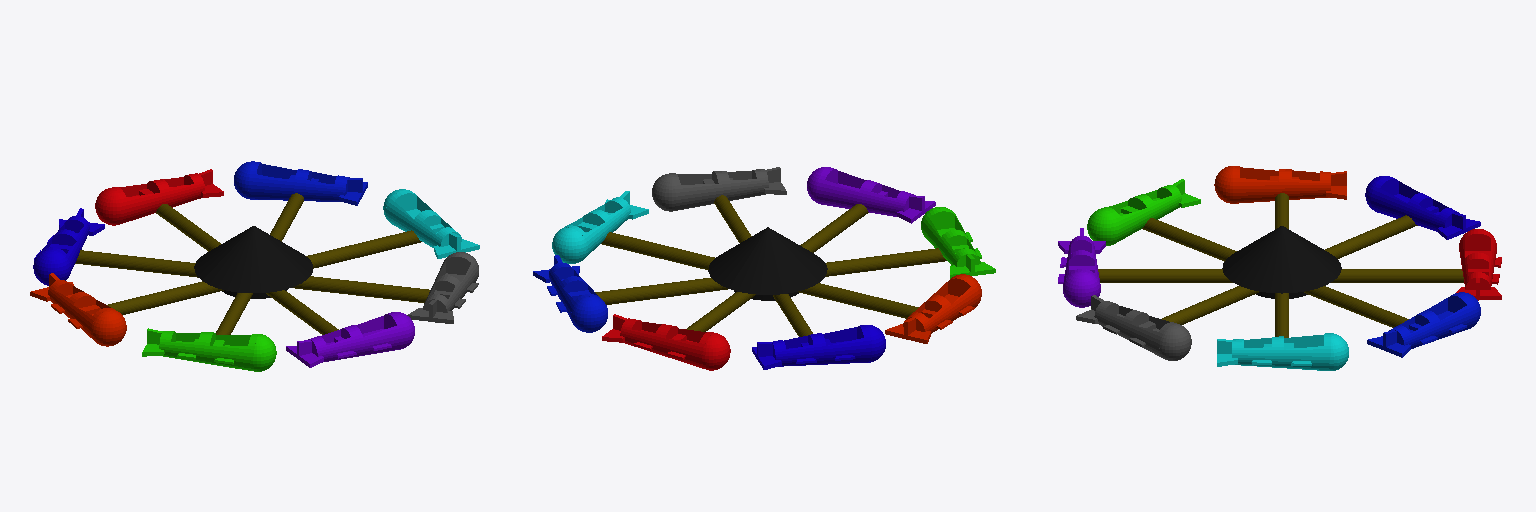
The model's file is foguetes.obj.
3 views of the same model, side by side, from view 1: azimuth 30°, elevation 25°; view 2: azimuth 150°, elevation 25°; view 3: azimuth 270°, elevation 25° (orthographic).
Parts seen in each view (by area): view 1: Kiddie-Jets.002, Kiddie-Jets.001, Kiddie-Jets.004_Kiddie-Jets.005, Kiddie-Jets.008_Kiddie-Jets.009, Kiddie-Jets.005_Kiddie-Jets.006, Kiddie-Jets.009_Kiddie-Jets.010, Kiddie-Jets.003_Kiddie-Jets.004, Kiddie-Jets.007_Kiddie-Jets.008, Kiddie-Jets.006_Kiddie-Jets.007, Kiddie-Jets; view 2: Kiddie-Jets.002, Kiddie-Jets.001, Kiddie-Jets, Kiddie-Jets.006_Kiddie-Jets.007, Kiddie-Jets.009_Kiddie-Jets.010, Kiddie-Jets.005_Kiddie-Jets.006, Kiddie-Jets.003_Kiddie-Jets.004, Kiddie-Jets.007_Kiddie-Jets.008, Kiddie-Jets.008_Kiddie-Jets.009, Kiddie-Jets.004_Kiddie-Jets.005; view 3: Kiddie-Jets.002, Kiddie-Jets.001, Kiddie-Jets.007_Kiddie-Jets.008, Kiddie-Jets.003_Kiddie-Jets.004, Kiddie-Jets.006_Kiddie-Jets.007, Kiddie-Jets.008_Kiddie-Jets.009, Kiddie-Jets, Kiddie-Jets.004_Kiddie-Jets.005, Kiddie-Jets.005_Kiddie-Jets.006, Kiddie-Jets.009_Kiddie-Jets.010.
Boxes of the visible parts, x1=… form: Kiddie-Jets.002: x1=75, y1=193, x2=429, y2=334; Kiddie-Jets.001: x1=194, y1=226, x2=312, y2=298; Kiddie-Jets.004_Kiddie-Jets.005: x1=142, y1=328, x2=276, y2=371; Kiddie-Jets.008_Kiddie-Jets.009: x1=234, y1=161, x2=367, y2=205; Kiddie-Jets.005_Kiddie-Jets.006: x1=286, y1=312, x2=414, y2=367; Kiddie-Jets.009_Kiddie-Jets.010: x1=95, y1=169, x2=223, y2=225; Kiddie-Jets.003_Kiddie-Jets.004: x1=30, y1=273, x2=126, y2=346; Kiddie-Jets.007_Kiddie-Jets.008: x1=383, y1=189, x2=479, y2=258; Kiddie-Jets.006_Kiddie-Jets.007: x1=407, y1=252, x2=478, y2=323; Kiddie-Jets: x1=33, y1=208, x2=104, y2=285; Kiddie-Jets.002: x1=595, y1=195, x2=946, y2=336; Kiddie-Jets.001: x1=708, y1=227, x2=827, y2=300; Kiddie-Jets: x1=752, y1=325, x2=885, y2=369; Kiddie-Jets.006_Kiddie-Jets.007: x1=652, y1=167, x2=786, y2=211; Kiddie-Jets.009_Kiddie-Jets.010: x1=602, y1=314, x2=730, y2=370; Kiddie-Jets.005_Kiddie-Jets.006: x1=807, y1=167, x2=935, y2=223; Kiddie-Jets.003_Kiddie-Jets.004: x1=885, y1=274, x2=981, y2=343; Kiddie-Jets.007_Kiddie-Jets.008: x1=552, y1=191, x2=648, y2=263; Kiddie-Jets.008_Kiddie-Jets.009: x1=533, y1=255, x2=607, y2=332; Kiddie-Jets.004_Kiddie-Jets.005: x1=921, y1=207, x2=995, y2=278; Kiddie-Jets.002: x1=1098, y1=193, x2=1463, y2=337; Kiddie-Jets.001: x1=1222, y1=226, x2=1341, y2=298; Kiddie-Jets.007_Kiddie-Jets.008: x1=1217, y1=333, x2=1348, y2=370; Kiddie-Jets.003_Kiddie-Jets.004: x1=1214, y1=166, x2=1346, y2=203; Kiddie-Jets.006_Kiddie-Jets.007: x1=1076, y1=295, x2=1191, y2=360; Kiddie-Jets.008_Kiddie-Jets.009: x1=1367, y1=292, x2=1480, y2=357; Kiddie-Jets: x1=1365, y1=176, x2=1480, y2=239; Kiddie-Jets.004_Kiddie-Jets.005: x1=1087, y1=179, x2=1200, y2=245; Kiddie-Jets.005_Kiddie-Jets.006: x1=1058, y1=228, x2=1105, y2=307; Kiddie-Jets.009_Kiddie-Jets.010: x1=1456, y1=229, x2=1501, y2=300.
Size of the model in its own units: 89.6 by 13.32 by 89.6.